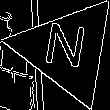N_S: (42, 22, 92, 78)
